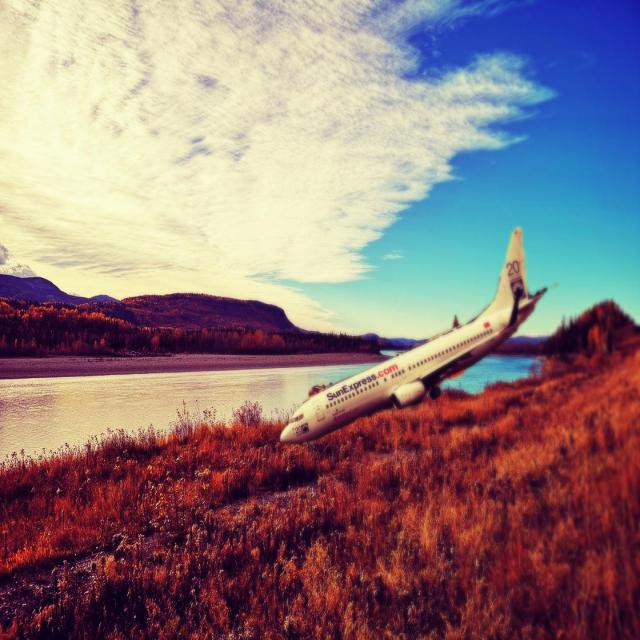airplane: (278, 226, 548, 444)
